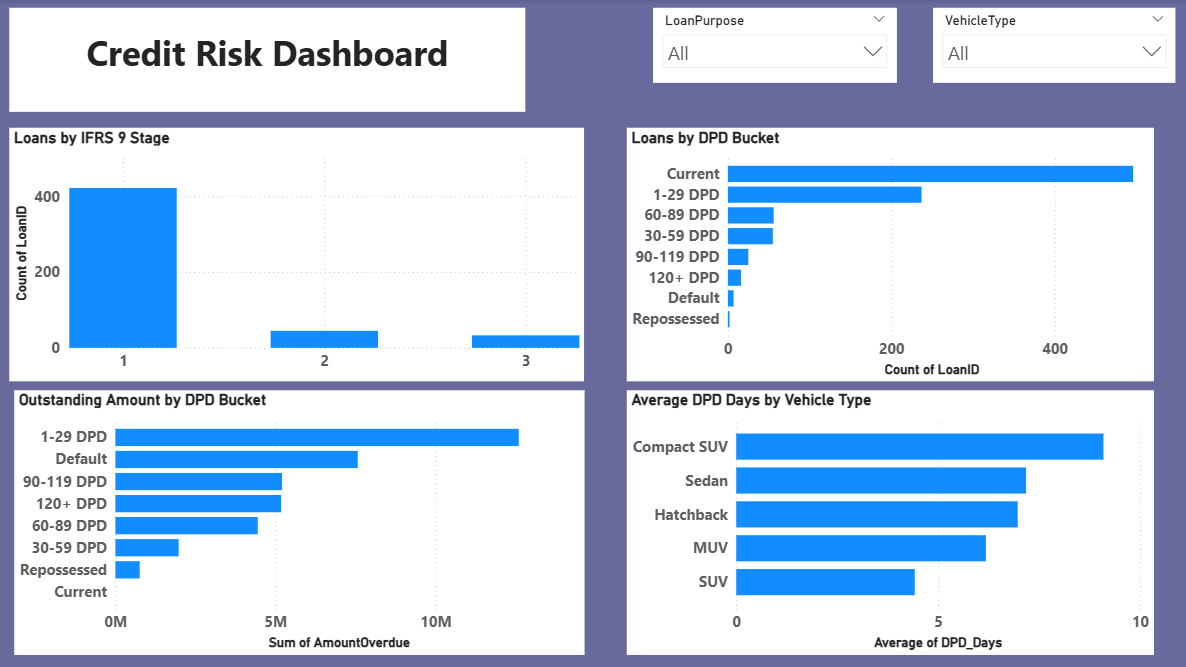

Layout of this report page (visuals, bound fields, positions):
{"tool":"powerbi","page":{"name":"Credit Risk Dashboard","canvas":[1280,720],"ordinal":1},"visuals":[{"type":"textbox","box":[12.1,9.4,555.4,111.6],"z":0},{"type":"clusteredColumnChart","title":"Loans by IFRS 9 Stage","fields":{"Category":["Loans.IFRS9_Stage"],"Y":["CountNonNull(Loans.LoanID)"]},"box":[12.1,138.5,618.6,273],"z":1000},{"type":"clusteredBarChart","title":"Loans by DPD Bucket","fields":{"Y":["Count(dpd_snapshot_history.LoanID)"],"Category":["dpd_snapshot_history.DPD_Bucket"]},"box":[676.4,138.5,567.5,273],"z":2000},{"type":"clusteredBarChart","title":"Outstanding Amount by DPD Bucket","fields":{"Category":["dpd_snapshot_history.DPD_Bucket"],"Y":["Sum(dpd_snapshot_history.AmountOverdue)"]},"box":[17.5,420.9,613.2,285.1],"z":3000},{"type":"clusteredBarChart","title":"Average DPD Days by Vehicle Type","fields":{"Category":["Loans.VehicleType"],"Y":["Avg(dpd_snapshot_history.DPD_Days)"]},"box":[676.4,420.9,567.5,285.1],"z":4000},{"type":"slicer","fields":{"Values":["Loans.VehicleType"]},"box":[1005.9,9.4,260.9,80.7],"z":5000},{"type":"slicer","fields":{"Values":["Loans.LoanPurpose"]},"box":[704.7,9.4,262.2,80.7],"z":6000}]}

Visuals, with their boxes in screenshot pixels (x1, y1, x2, y2), scaled from the page's 1280x720 canvas onto the 1186x667 screenshot:
textbox: 11:9:526:112
"Loans by IFRS 9 Stage" clusteredColumnChart: 11:128:584:381
"Loans by DPD Bucket" clusteredBarChart: 627:128:1153:381
"Outstanding Amount by DPD Bucket" clusteredBarChart: 16:390:584:654
"Average DPD Days by Vehicle Type" clusteredBarChart: 627:390:1153:654
slicer - Loans.VehicleType: 932:9:1174:83
slicer - Loans.LoanPurpose: 653:9:896:83
